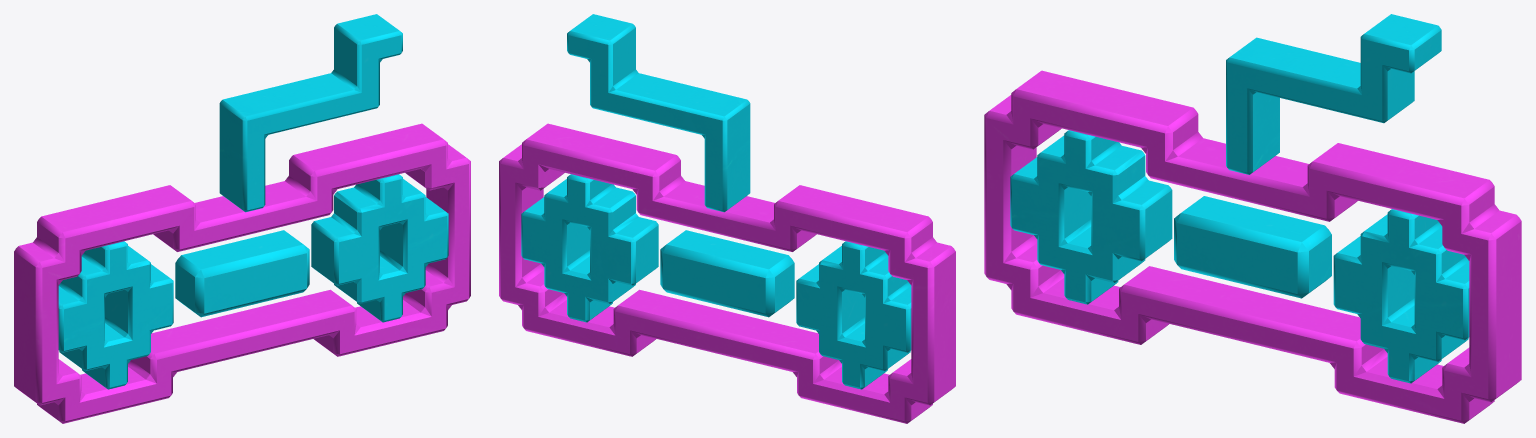
The model's file is Prop_Sign_Controller_x2.fbx.
The picture shows the model from 3 angles, left to right: view 1: azimuth 30°, elevation 25°; view 2: azimuth 150°, elevation 25°; view 3: azimuth 330°, elevation 25°; orthographic projection. The views are drawn at different scales.
Visible parts, largest first — view 1: Prop_Sign_Controller_x2; view 2: Prop_Sign_Controller_x2; view 3: Prop_Sign_Controller_x2.
Boxes of the visible parts, x1,y1,x2,y2 form: Prop_Sign_Controller_x2: (14, 14, 470, 423); Prop_Sign_Controller_x2: (499, 14, 955, 423); Prop_Sign_Controller_x2: (984, 14, 1521, 423).
Size of the model in its own units: 54.66 by 37.4 by 5.75.
